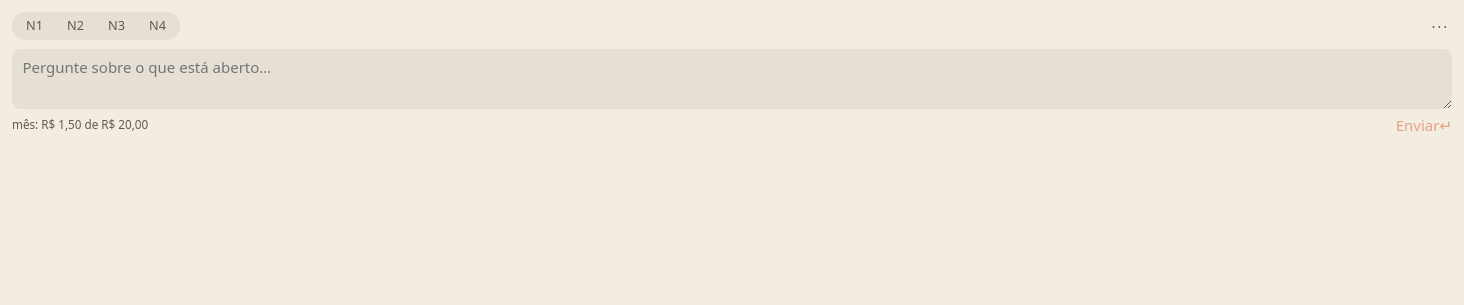
Test case: erro do Gemini mostra o motivo e Tentar de novo
This screenshot has width=1464, height=305.
Click the button named "N3 Esboço" at (116, 26), box [96,14,137,38]
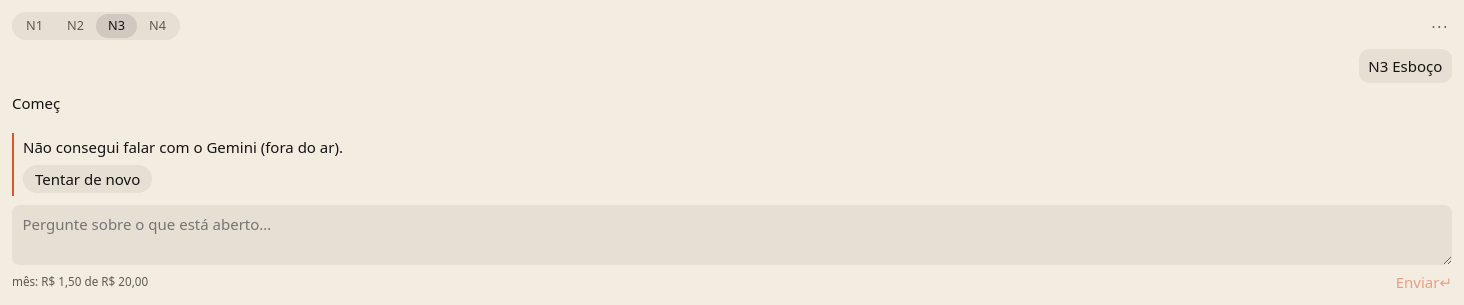
Check: the text "Não consegui falar com o Gemini (fora do ar)." is shown, box [23,137,343,157]
Click the button "Tentar de novo" at (88, 179), box [23,165,152,193]
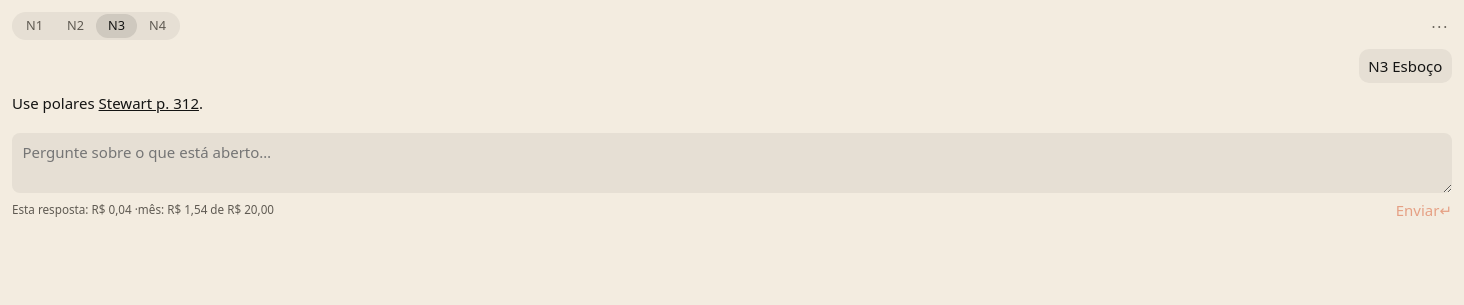
Check: the text "Use polares Stewart p. 312 ." is shown, box [12,93,203,113]
